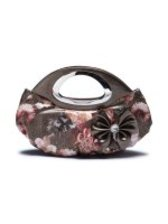bag: (15, 63, 153, 161)
